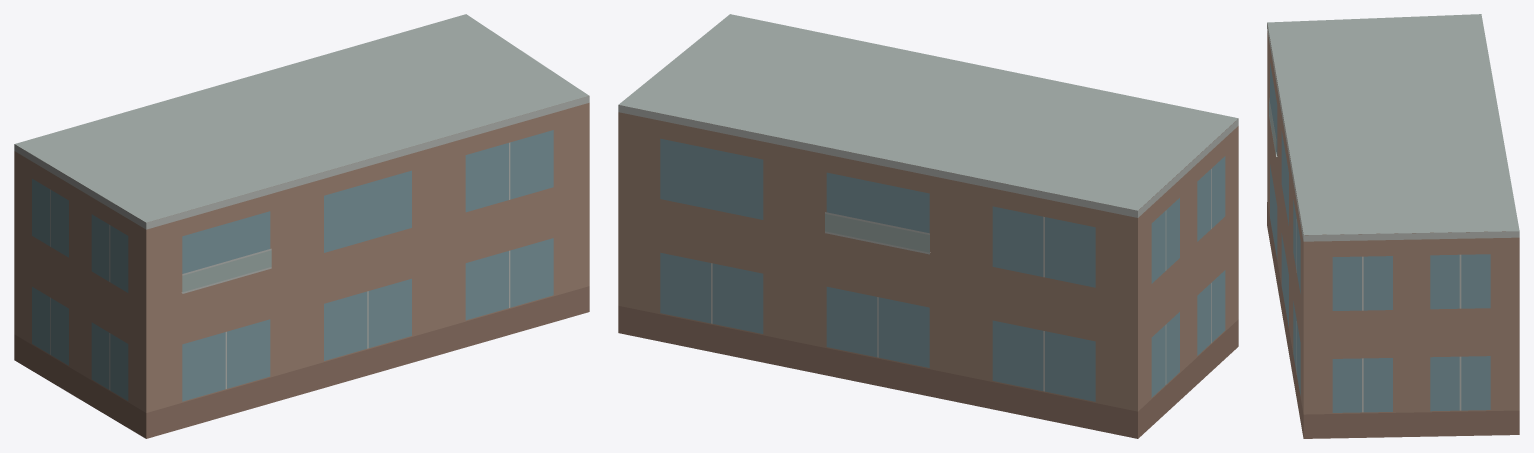
Rendered from survey-upis-32757080.glb.
3 renders of one model, left to right at view 1: azimuth 30°, elevation 25°; view 2: azimuth 150°, elevation 25°; view 3: azimuth 270°, elevation 25°, orthographic. The views are drawn at different scales.
Parts seen in each view (by area): view 1: survey-upis-32757080.tmp; view 2: survey-upis-32757080.tmp; view 3: survey-upis-32757080.tmp.
Boxes of the visible parts, x1=… form: survey-upis-32757080.tmp: x1=14, y1=14, x2=589, y2=438; survey-upis-32757080.tmp: x1=618, y1=14, x2=1238, y2=438; survey-upis-32757080.tmp: x1=1267, y1=14, x2=1519, y2=438.
Size of the model in its own units: 17.7 by 7.6 by 8.54.
